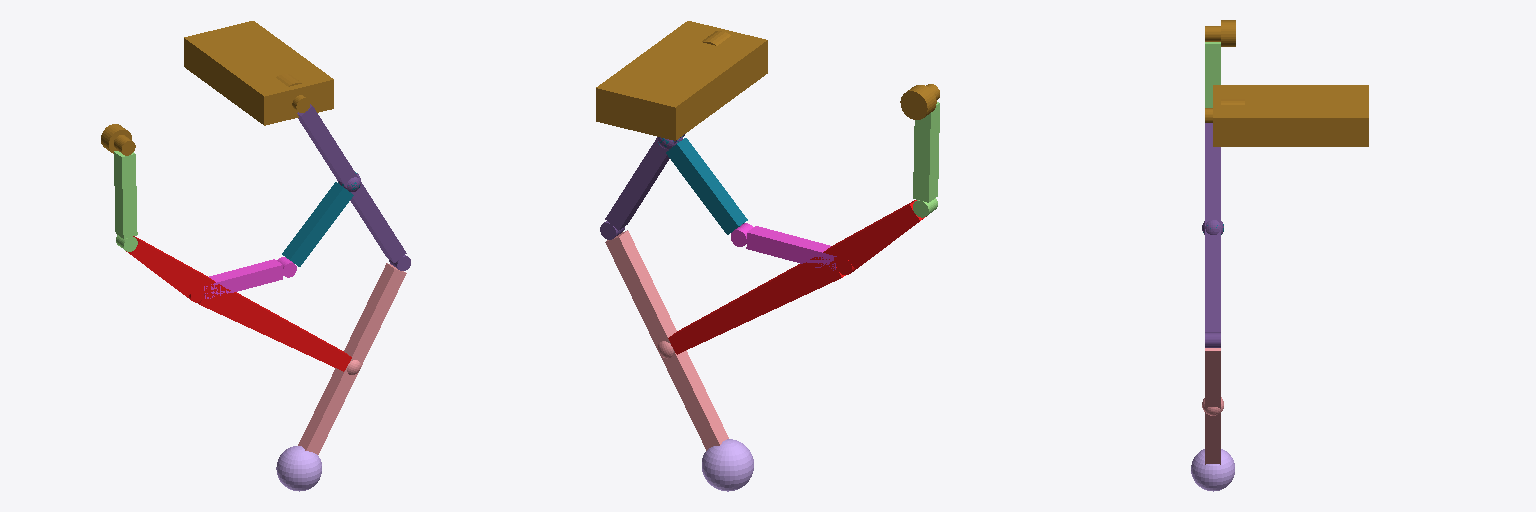
The robot description file, URDF, robot "Robot":
<?xml version="1.0"?>
<robot  name="Robot" >
 <link  name="L7" >
  <visual >
   <origin  rpy="0.0 0.0 0.0"  xyz="-6.938893903907228e-18 0.0 0.14433756729740643" />
   <geometry >
    <box  size="0.03999999910593033 0.03999999910593033 0.24867513548888254" />
   </geometry>
   <material  name="L7_Material" >
    <color  rgba="0.5070663128232016 0.3837017563454428 0.6212972244610807 1.0" />
   </material>
  </visual>
  <collision  name="L7_0_Collision" >
   <origin  rpy="0.0 0.0 0.0"  xyz="-6.938893903907228e-18 0.0 0.14433756729740643" />
   <geometry >
    <box  size="0.03999999910593033 0.03999999910593033 0.24867513548888254" />
   </geometry>
  </collision>
  <visual >
   <origin  rpy="0.0 0.0 0.0"  xyz="-2.0816681711721685e-17 0.0 0.4330127018922193" />
   <geometry >
    <box  size="0.03999999910593033 0.03999999910593033 0.24867513548888254" />
   </geometry>
   <material  name="L7_Material" >
    <color  rgba="0.5070663128232016 0.3837017563454428 0.6212972244610807 1.0" />
   </material>
  </visual>
  <collision  name="L7_1_Collision" >
   <origin  rpy="0.0 0.0 0.0"  xyz="-2.0816681711721685e-17 0.0 0.4330127018922193" />
   <geometry >
    <box  size="0.03999999910593033 0.03999999910593033 0.24867513548888254" />
   </geometry>
  </collision>
  <visual >
   <origin  rpy="0.0 0.0 0.0"  xyz="-1.3877787807814457e-17 0.0 0.28867513459481287" />
   <geometry >
    <box  size="0.03999999910593033 0.03999999910593033 0.5373502700836954" />
   </geometry>
   <material  name="L7_Material" >
    <color  rgba="0.5070663128232016 0.3837017563454428 0.6212972244610807 1.0" />
   </material>
  </visual>
  <collision  name="L7_2_Collision" >
   <origin  rpy="0.0 0.0 0.0"  xyz="-1.3877787807814457e-17 0.0 0.28867513459481287" />
   <geometry >
    <box  size="0.03999999910593033 0.03999999910593033 0.5373502700836954" />
   </geometry>
  </collision>
  <inertial >
   <origin  rpy="0.0 0.0 0.0"  xyz="-0.0 0.0 0.28868" />
   <mass  value="0.8907689643113298" />
   <inertia  izz="0.024951427653936358"  ixx="0.2771860503548242"  ixz="0.07992171105215214"  iyz="0.0"  iyy="0.3018999396288964"  ixy="1.089042360755529e-19" />
  </inertial>
 </link>
 <link  name="G" >
  <visual >
   <origin  rpy="0.0 0.0 0.0"  xyz="0.0 0.2 0.0" />
   <geometry >
    <box  size="0.2 0.4 0.08" />
   </geometry>
   <material  name="G_Material" >
    <color  rgba="0.6940779713638543 0.5091607061714823 0.18845358114361532 1.0" />
   </material>
  </visual>
  <collision  name="G_Collision" >
   <origin  rpy="0.0 0.0 0.0"  xyz="0.0 0.2 0.0" />
   <geometry >
    <box  size="0.2 0.4 0.08" />
   </geometry>
  </collision>
  <inertial >
   <origin  rpy="0.0 0.0 0.0"  xyz="0.0 0.2 0.0" />
   <mass  value="6.171428571428573" />
   <inertia  izz="0.10285714285714288"  ixx="0.08557714285714288"  ixz="0.0"  iyz="0.0"  iyy="0.08557714285714288"  ixy="0.0" />
  </inertial>
 </link>
 <link  name="L8" >
  <visual >
   <origin  rpy="0.0 0.0 0.0"  xyz="5.551115123125783e-17 0.0 0.4330127018922193" />
   <geometry >
    <box  size="0.03999999910593033 0.03999999910593033 0.24867513548888254" />
   </geometry>
   <material  name="L8_Material" >
    <color  rgba="0.958247288891179 0.6402156950870871 0.6659140439682679 1.0" />
   </material>
  </visual>
  <collision  name="L8_0_Collision" >
   <origin  rpy="0.0 0.0 0.0"  xyz="5.551115123125783e-17 0.0 0.4330127018922193" />
   <geometry >
    <box  size="0.03999999910593033 0.03999999910593033 0.24867513548888254" />
   </geometry>
  </collision>
  <visual >
   <origin  rpy="0.0 0.0 0.0"  xyz="2.7755575615628914e-17 0.0 0.14433756729740643" />
   <geometry >
    <box  size="0.03999999910593033 0.03999999910593033 0.24867513548888254" />
   </geometry>
   <material  name="L8_Material" >
    <color  rgba="0.958247288891179 0.6402156950870871 0.6659140439682679 1.0" />
   </material>
  </visual>
  <collision  name="L8_1_Collision" >
   <origin  rpy="0.0 0.0 0.0"  xyz="2.7755575615628914e-17 0.0 0.14433756729740643" />
   <geometry >
    <box  size="0.03999999910593033 0.03999999910593033 0.24867513548888254" />
   </geometry>
  </collision>
  <visual >
   <origin  rpy="0.0 0.0 0.0"  xyz="2.7755575615628914e-17 0.0 0.28867513459481287" />
   <geometry >
    <box  size="0.03999999910593033 0.03999999910593033 0.5373502700836954" />
   </geometry>
   <material  name="L8_Material" >
    <color  rgba="0.958247288891179 0.6402156950870871 0.6659140439682679 1.0" />
   </material>
  </visual>
  <collision  name="L8_2_Collision" >
   <origin  rpy="0.0 0.0 0.0"  xyz="2.7755575615628914e-17 0.0 0.28867513459481287" />
   <geometry >
    <box  size="0.03999999910593033 0.03999999910593033 0.5373502700836954" />
   </geometry>
  </collision>
  <inertial >
   <origin  rpy="0.0 0.0 0.0"  xyz="0.0 0.0 0.28868" />
   <mass  value="0.8907688606121752" />
   <inertia  izz="0.02495142616873406"  ixx="0.9797175841148964"  ixz="0.12288169875706646"  iyz="2.964046593268323e-19"  iyy="1.0044314719314194"  ixy="-1.089042360755529e-19" />
  </inertial>
 </link>
 <link  name="EE" >
  <visual >
   <origin  rpy="0.0 0.0 0.0"  xyz="0.0 0.0 0.0" />
   <geometry >
    <sphere  radius="0.05714285714285715" />
   </geometry>
   <material  name="EE_Material" >
    <color  rgba="0.825248863480645 0.7147548401941719 0.9747878816104143 1.0" />
   </material>
  </visual>
  <collision  name="EE_Collision" >
   <origin  rpy="0.0 0.0 0.0"  xyz="0.0 0.0 0.0" />
   <geometry >
    <sphere  radius="0.05714285714285715" />
   </geometry>
  </collision>
  <inertial >
   <origin  rpy="0.0 0.0 0.0"  xyz="0.0 0.0 0.0" />
   <mass  value="0.7536682084413666" />
   <inertia  izz="0.0009843829661274994"  ixx="0.0009843829661274994"  ixz="0.0"  iyz="0.0"  iyy="0.0009843829661274994"  ixy="0.0" />
  </inertial>
 </link>
 <link  name="L3" >
  <visual >
   <origin  rpy="0.0 0.0 0.0"  xyz="0.0 0.0 0.13224" />
   <geometry >
    <box  size="0.04 0.04 0.2244868310703372" />
   </geometry>
   <material  name="L3_Material" >
    <color  rgba="0.6357349064317402 0.8936451660926189 0.5497626428926408 1.0" />
   </material>
  </visual>
  <collision  name="L3_Collision" >
   <origin  rpy="0.0 0.0 0.0"  xyz="0.0 0.0 0.13224" />
   <geometry >
    <box  size="0.04 0.04 0.2244868310703372" />
   </geometry>
  </collision>
  <inertial >
   <origin  rpy="0.0 0.0 0.0"  xyz="0.0 0.0 0.13224" />
   <mass  value="0.34635111079423453" />
   <inertia  izz="9.236029621179587e-05"  ixx="0.0015006913739315216"  ixz="0.0"  iyz="0.0"  iyy="0.0015006913739315216"  ixy="0.0" />
  </inertial>
 </link>
 <link  name="L4" >
  <visual >
   <origin  rpy="3.141592653589793 0.16754144622366485 3.141592653589793"  xyz="-0.04503000288298151 0.0 0.5307366489238436" />
   <geometry >
    <box  size="0.03999999910593033 0.03999999910593033 0.5000617257613913" />
   </geometry>
   <material  name="L4_Material" >
    <color  rgba="0.9589272230154348 0.1300026598947781 0.13751742790273824 1.0" />
   </material>
  </visual>
  <collision  name="L4_0_Collision" >
   <origin  rpy="3.141592653589793 0.16754144622366485 3.141592653589793"  xyz="-0.04503000288298151 0.0 0.5307366489238436" />
   <geometry >
    <box  size="0.03999999910593033 0.03999999910593033 0.5000617257613913" />
   </geometry>
  </collision>
  <visual >
   <origin  rpy="3.141592653589793 0.11252334876541847 3.141592653589793"  xyz="-0.04503000288298151 0.0 0.398493233388675" />
   <geometry >
    <box  size="0.03999999910593033 0.03999999910593033 0.7620587474113115" />
   </geometry>
   <material  name="L4_Material" >
    <color  rgba="0.9589272230154348 0.1300026598947781 0.13751742790273824 1.0" />
   </material>
  </visual>
  <collision  name="L4_1_Collision" >
   <origin  rpy="3.141592653589793 0.11252334876541847 3.141592653589793"  xyz="-0.04503000288298151 0.0 0.398493233388675" />
   <geometry >
    <box  size="0.03999999910593033 0.03999999910593033 0.7620587474113115" />
   </geometry>
  </collision>
  <visual >
   <origin  rpy="0.0 0.0 0.0"  xyz="0.0 0.0 0.1322434155351686" />
   <geometry >
    <box  size="0.03999999910593033 0.03999999910593033 0.22448683196440689" />
   </geometry>
   <material  name="L4_Material" >
    <color  rgba="0.9589272230154348 0.1300026598947781 0.13751742790273824 1.0" />
   </material>
  </visual>
  <collision  name="L4_2_Collision" >
   <origin  rpy="0.0 0.0 0.0"  xyz="0.0 0.0 0.1322434155351686" />
   <geometry >
    <box  size="0.03999999910593033 0.03999999910593033 0.22448683196440689" />
   </geometry>
  </collision>
  <inertial >
   <origin  rpy="0.0 0.0 0.0"  xyz="-0.03002 0.0 0.35382" />
   <mass  value="1.6987621821860732" />
   <inertia  izz="0.09509170038349501"  ixx="1.2853072288218577"  ixz="-0.19513384453654836"  iyz="3.5601883815459e-19"  iyy="1.3799459259770206"  ixy="-1.634652583494046e-20" />
  </inertial>
 </link>
 <link  name="L5" >
  <visual >
   <origin  rpy="0.0 0.0 0.0"  xyz="0.0 0.0 0.13224" />
   <geometry >
    <box  size="0.04 0.04 0.2244868310703372" />
   </geometry>
   <material  name="L5_Material" >
    <color  rgba="0.9567309395021736 0.3558220698086245 0.8680803098476333 1.0" />
   </material>
  </visual>
  <collision  name="L5_Collision" >
   <origin  rpy="0.0 0.0 0.0"  xyz="0.0 0.0 0.13224" />
   <geometry >
    <box  size="0.04 0.04 0.2244868310703372" />
   </geometry>
  </collision>
  <inertial >
   <origin  rpy="0.0 0.0 0.0"  xyz="0.0 0.0 0.13224" />
   <mass  value="0.34635111079423453" />
   <inertia  izz="9.236029621179587e-05"  ixx="0.0015006913739315216"  ixz="0.0"  iyz="0.0"  iyy="0.0015006913739315216"  ixy="0.0" />
  </inertial>
 </link>
 <link  name="L6" >
  <visual >
   <origin  rpy="0.0 0.0 0.0"  xyz="-0.0 0.0 0.13224" />
   <geometry >
    <box  size="0.04 0.04 0.22448683107033726" />
   </geometry>
   <material  name="L6_Material" >
    <color  rgba="0.12677179806288352 0.5125235335011983 0.6065403482440004 1.0" />
   </material>
  </visual>
  <collision  name="L6_Collision" >
   <origin  rpy="0.0 0.0 0.0"  xyz="-0.0 0.0 0.13224" />
   <geometry >
    <box  size="0.04 0.04 0.22448683107033726" />
   </geometry>
  </collision>
  <inertial >
   <origin  rpy="0.0 0.0 0.0"  xyz="-0.0 0.0 0.13224" />
   <mass  value="0.34635111079423464" />
   <inertia  izz="9.23602962117959e-05"  ixx="0.0015006913739315229"  ixz="0.0"  iyz="0.0"  iyy="0.0015006913739315229"  ixy="0.0" />
  </inertial>
 </link>
 <joint  name="Main_ground"  type="revolute" >
  <parent  link="G" />
  <child  link="L7" />
  <origin  rpy="3.141592653589793 0.5235987755982991 3.141592653589793"  xyz="0.0 0.0 0.0" />
  <axis  xyz="0 1 0" />
  <limit  lower="-3.141592653589793"  upper="3.141592653589793"  velocity="18.692476288859268"  effort="28.799999999999997" />
  <dynamics  friction="0"  damping="0.05" />
 </joint>
 <joint  name="Main_ground_G_WeldActuator"  type="fixed" >
  <parent  link="G" />
  <child  link="Main_ground_GActuator" />
  <origin  rpy="-1.5707963267948966 0.5235987755982987 -3.141592653589793"  xyz="0.0 0.050999999552965164 0.0" />
 </joint>
 <link  name="Main_ground_GActuator" >
  <visual >
   <geometry >
    <cylinder  length="0.062"  radius="0.045" />
   </geometry>
   <material  name="Main_ground_GActuator_Material" >
    <color  rgba="0.6940779713638543 0.5091607061714823 0.18845358114361532 0.9" />
   </material>
  </visual>
  <inertial >
   <inertia  izz="0.021599999999999998"  ixx="0.015759999999999996"  ixz="0.0"  iyz="0.0"  iyy="0.015759999999999996"  ixy="0.0" />
   <mass  value="0.96" />
  </inertial>
 </link>
 <link  name="Main_ground_GUnit" >
  <visual >
   <geometry >
    <cylinder  length="0.03999999910593033"  radius="0.019999999552965164" />
   </geometry>
   <material  name="Main_ground_GUnit_Material" >
    <color  rgba="0.6940779713638543 0.5091607061714823 0.18845358114361532 0.9" />
   </material>
  </visual>
  <inertial >
   <inertia  izz="0.0009999999776482583"  ixx="0.0008333333147068819"  ixz="0.0"  iyz="0.0"  iyy="0.0008333333147068819"  ixy="0.0" />
   <mass  value="0.1" />
  </inertial>
 </link>
 <joint  name="Main_ground_G_WeldUnit"  type="fixed" >
  <parent  link="G" />
  <child  link="Main_ground_GUnit" />
  <origin  rpy="-1.5707963267948966 0.5235987755982987 -3.141592653589793"  xyz="0.0 0.0 0.0" />
 </joint>
 <joint  name="Main_knee"  type="revolute" >
  <parent  link="L7" />
  <child  link="L8" />
  <origin  rpy="0.0 1.0471975511965974 0.0"  xyz="-2.7755575615628914e-17 0.0 0.5773502691896257" />
  <axis  xyz="0 1 0" />
  <limit  lower="-3.141592653589793"  upper="3.141592653589793"  velocity="6.283185307179586"  effort="600.0" />
  <dynamics  friction="0"  damping="0.05" />
 </joint>
 <link  name="Main_knee_L7Unit" >
  <visual >
   <geometry >
    <cylinder  length="0.03999999910593033"  radius="0.019999999552965164" />
   </geometry>
   <material  name="Main_knee_L7Unit_Material" >
    <color  rgba="0.5070663128232016 0.3837017563454428 0.6212972244610807 0.9" />
   </material>
  </visual>
  <inertial >
   <inertia  izz="0.0009999999776482583"  ixx="0.0008333333147068819"  ixz="0.0"  iyz="0.0"  iyy="0.0008333333147068819"  ixy="0.0" />
   <mass  value="0.1" />
  </inertial>
 </link>
 <joint  name="Main_knee_L7_WeldUnit"  type="fixed" >
  <parent  link="L7" />
  <child  link="Main_knee_L7Unit" />
  <origin  rpy="1.5707963267948966 1.0471975511965979 0.0"  xyz="-2.7755575615628914e-17 0.0 0.5773502691896257" />
 </joint>
 <joint  name="Main_ee"  type="fixed" >
  <parent  link="L8" />
  <child  link="EE" />
  <origin  rpy="3.141592653589793 0.5235987755982991 3.141592653589793"  xyz="5.551115123125783e-17 0.0 0.5773502691896257" />
 </joint>
 <link  name="Main_ee_L8Unit" >
  <visual >
   <geometry >
    <cylinder  length="0.03999999910593033"  radius="0.019999999552965164" />
   </geometry>
   <material  name="Main_ee_L8Unit_Material" >
    <color  rgba="0.958247288891179 0.6402156950870871 0.6659140439682679 0.9" />
   </material>
  </visual>
  <inertial >
   <inertia  izz="0.0009999999776482583"  ixx="0.0008333333147068819"  ixz="0.0"  iyz="0.0"  iyy="0.0008333333147068819"  ixy="0.0" />
   <mass  value="0.1" />
  </inertial>
 </link>
 <joint  name="Main_ee_L8_WeldUnit"  type="fixed" >
  <parent  link="L8" />
  <child  link="Main_ee_L8Unit" />
  <origin  rpy="-1.5707963267948966 0.5235987755982987 -3.141592653589793"  xyz="5.551115123125783e-17 0.0 0.5773502691896257" />
 </joint>
 <joint  name="2L_ground"  type="revolute" >
  <parent  link="G" />
  <child  link="L3" />
  <origin  rpy="3.141592653589793 0.022584157122803372 3.141592653589793"  xyz="-0.5 0.0 0.0" />
  <axis  xyz="0 1 0" />
  <limit  lower="-3.141592653589793"  upper="3.141592653589793"  velocity="17.907078125461823"  effort="5.3999999999999995" />
  <dynamics  friction="0"  damping="0.05" />
 </joint>
 <joint  name="2L_ground_G_WeldActuator"  type="fixed" >
  <parent  link="G" />
  <child  link="2L_ground_GActuator" />
  <origin  rpy="-1.5707963267948966 0.022584157122803594 -3.141592653589793"  xyz="-0.5 0.03975 0.0" />
 </joint>
 <link  name="2L_ground_GActuator" >
  <visual >
   <geometry >
    <cylinder  length="0.0395"  radius="0.034" />
   </geometry>
   <material  name="2L_ground_GActuator_Material" >
    <color  rgba="0.6940779713638543 0.5091607061714823 0.18845358114361532 0.9" />
   </material>
  </visual>
  <inertial >
   <inertia  izz="0.006256"  ixx="0.004339333333333334"  ixz="0.0"  iyz="0.0"  iyy="0.004339333333333334"  ixy="0.0" />
   <mass  value="0.368" />
  </inertial>
 </link>
 <link  name="2L_ground_GUnit" >
  <visual >
   <geometry >
    <cylinder  length="0.04"  radius="0.02" />
   </geometry>
   <material  name="2L_ground_GUnit_Material" >
    <color  rgba="0.6940779713638543 0.5091607061714823 0.18845358114361532 0.9" />
   </material>
  </visual>
  <inertial >
   <inertia  izz="0.001"  ixx="0.0008333333333333333"  ixz="0.0"  iyz="0.0"  iyy="0.0008333333333333333"  ixy="0.0" />
   <mass  value="0.1" />
  </inertial>
 </link>
 <joint  name="2L_ground_G_WeldUnit"  type="fixed" >
  <parent  link="G" />
  <child  link="2L_ground_GUnit" />
  <origin  rpy="-1.5707963267948966 0.022584157122803594 -3.141592653589793"  xyz="-0.5 0.0 0.0" />
 </joint>
 <joint  name="4LT2_j0"  type="revolute" >
  <parent  link="L3" />
  <child  link="L4" />
  <origin  rpy="0.0 -0.7853981633974468 0.0"  xyz="3.885780586188048e-16 0.0 0.2644868310703371" />
  <axis  xyz="0 1 0" />
  <limit  lower="-3.141592653589793"  upper="3.141592653589793"  velocity="6.283185307179586"  effort="600.0" />
  <dynamics  friction="0"  damping="0.05" />
 </joint>
 <link  name="4LT2_j0_L3Unit" >
  <visual >
   <geometry >
    <cylinder  length="0.04"  radius="0.02" />
   </geometry>
   <material  name="4LT2_j0_L3Unit_Material" >
    <color  rgba="0.6357349064317402 0.8936451660926189 0.5497626428926408 0.9" />
   </material>
  </visual>
  <inertial >
   <inertia  izz="0.001"  ixx="0.0008333333333333333"  ixz="0.0"  iyz="0.0"  iyy="0.0008333333333333333"  ixy="0.0" />
   <mass  value="0.1" />
  </inertial>
 </link>
 <joint  name="4LT2_j0_L3_WeldUnit"  type="fixed" >
  <parent  link="L3" />
  <child  link="4LT2_j0_L3Unit" />
  <origin  rpy="1.5707963267948966 -0.7853981633974467 0.0"  xyz="3.885780586188048e-16 0.0 0.2644868310703371" />
 </joint>
 <joint  name="4LT2_j1"  type="revolute" >
  <parent  link="L4" />
  <child  link="L5" />
  <origin  rpy="0.0 -0.785398163397448 0.0"  xyz="0.0 0.0 0.2644868310703372" />
  <axis  xyz="0 1 0" />
  <limit  lower="-3.141592653589793"  upper="3.141592653589793"  velocity="6.283185307179586"  effort="600.0" />
  <dynamics  friction="0"  damping="0.05" />
 </joint>
 <link  name="4LT2_j1_L4Unit" >
  <visual >
   <geometry >
    <cylinder  length="0.03999999910593033"  radius="0.019999999552965164" />
   </geometry>
   <material  name="4LT2_j1_L4Unit_Material" >
    <color  rgba="0.9589272230154348 0.1300026598947781 0.13751742790273824 0.9" />
   </material>
  </visual>
  <inertial >
   <inertia  izz="0.0009999999776482583"  ixx="0.0008333333147068819"  ixz="0.0"  iyz="0.0"  iyy="0.0008333333147068819"  ixy="0.0" />
   <mass  value="0.1" />
  </inertial>
 </link>
 <joint  name="4LT2_j1_L4_WeldUnit"  type="fixed" >
  <parent  link="L4" />
  <child  link="4LT2_j1_L4Unit" />
  <origin  rpy="1.5707963267948961 -0.7853981633974481 1.1102230246251565e-16"  xyz="0.0 0.0 0.2644868310703372" />
 </joint>
 <joint  name="4LT2_j2"  type="revolute" >
  <parent  link="L5" />
  <child  link="L6" />
  <origin  rpy="0.0 -0.7853981633974483 0.0"  xyz="5.551115123125783e-17 0.0 0.2644868310703372" />
  <axis  xyz="0 1 0" />
  <limit  lower="-3.141592653589793"  upper="3.141592653589793"  velocity="6.283185307179586"  effort="600.0" />
  <dynamics  friction="0"  damping="0.05" />
 </joint>
 <link  name="4LT2_j2_L5Unit" >
  <visual >
   <geometry >
    <cylinder  length="0.04"  radius="0.02" />
   </geometry>
   <material  name="4LT2_j2_L5Unit_Material" >
    <color  rgba="0.9567309395021736 0.3558220698086245 0.8680803098476333 0.9" />
   </material>
  </visual>
  <inertial >
   <inertia  izz="0.001"  ixx="0.0008333333333333333"  ixz="0.0"  iyz="0.0"  iyy="0.0008333333333333333"  ixy="0.0" />
   <mass  value="0.1" />
  </inertial>
 </link>
 <joint  name="4LT2_j2_L5_WeldUnit"  type="fixed" >
  <parent  link="L5" />
  <child  link="4LT2_j2_L5Unit" />
  <origin  rpy="1.5707963267948966 -0.7853981633974484 1.1102230246251565e-16"  xyz="5.551115123125783e-17 0.0 0.2644868310703372" />
 </joint>
 <link  name="4L_top_L7Pseudo" >
  <visual >
   <geometry >
    <sphere  radius="0.02857142793280738" />
   </geometry>
   <material  name="4L_top_L7Pseudo_Material" >
    <color  rgba="0.5070663128232016 0.3837017563454428 0.6212972244610807 0.5" />
   </material>
  </visual>
  <inertial >
   <mass  value="0.05" />
   <inertia  izz="1.632652988239212e-05"  ixx="1.632652988239212e-05"  ixz="0.0"  iyz="0.0"  iyy="1.632652988239212e-05"  ixy="0.0" />
  </inertial>
 </link>
 <joint  name="4L_top_L7_revolute"  type="revolute" >
  <parent  link="L7" />
  <child  link="4L_top_L7Pseudo" />
  <origin  rpy="0.0 0.0 0.0"  xyz="-1.3877787807814457e-17 0.0 0.28867513459481287" />
  <axis  xyz="0 1 0" />
  <limit  lower="-3.141592653589793"  upper="3.141592653589793"  velocity="6.283185307179586"  effort="600.0" />
  <dynamics  friction="0"  damping="0.05" />
 </joint>
 <joint  name="4L_top_L7_Weld"  type="fixed" >
  <parent  link="L6" />
  <child  link="4L_top_L6Pseudo" />
  <origin  rpy="3.141592653589793 1.286412781872945 3.141592653589793"  xyz="-5.551115123125783e-17 0.0 0.2644868310703372" />
 </joint>
 <link  name="4L_top_L6Pseudo" >
  <visual >
   <geometry >
    <sphere  radius="0.028571428571428574" />
   </geometry>
   <material  name="4L_top_L6Pseudo_Material" >
    <color  rgba="0.12677179806288352 0.5125235335011983 0.6065403482440004 0.5" />
   </material>
  </visual>
  <inertial >
   <mass  value="0.05" />
   <inertia  izz="1.6326530612244903e-05"  ixx="1.6326530612244903e-05"  ixz="0.0"  iyz="0.0"  iyy="1.6326530612244903e-05"  ixy="0.0" />
  </inertial>
 </link>
 <link  name="4L_bot_L8Pseudo" >
  <visual >
   <geometry >
    <sphere  radius="0.02857142793280738" />
   </geometry>
   <material  name="4L_bot_L8Pseudo_Material" >
    <color  rgba="0.958247288891179 0.6402156950870871 0.6659140439682679 0.5" />
   </material>
  </visual>
  <inertial >
   <mass  value="0.05" />
   <inertia  izz="1.632652988239212e-05"  ixx="1.632652988239212e-05"  ixz="0.0"  iyz="0.0"  iyy="1.632652988239212e-05"  ixy="0.0" />
  </inertial>
 </link>
 <joint  name="4L_bot_L8_revolute"  type="revolute" >
  <parent  link="L8" />
  <child  link="4L_bot_L8Pseudo" />
  <origin  rpy="0.0 0.0 0.0"  xyz="5.551115123125783e-17 0.0 0.28867513459481287" />
  <axis  xyz="0 1 0" />
  <limit  lower="-3.141592653589793"  upper="3.141592653589793"  velocity="6.283185307179586"  effort="600.0" />
  <dynamics  friction="0"  damping="0.05" />
 </joint>
 <joint  name="4L_bot_L8_Weld"  type="fixed" >
  <parent  link="L4" />
  <child  link="4L_bot_L4Pseudo" />
  <origin  rpy="0.0 1.3315810961185495 0.0"  xyz="-0.09006000576596307 0.0 0.79698646677735" />
 </joint>
 <link  name="4L_bot_L4Pseudo" >
  <visual >
   <geometry >
    <sphere  radius="0.02857142793280738" />
   </geometry>
   <material  name="4L_bot_L4Pseudo_Material" >
    <color  rgba="0.9589272230154348 0.1300026598947781 0.13751742790273824 0.5" />
   </material>
  </visual>
  <inertial >
   <mass  value="0.05" />
   <inertia  izz="1.632652988239212e-05"  ixx="1.632652988239212e-05"  ixz="0.0"  iyz="0.0"  iyy="1.632652988239212e-05"  ixy="0.0" />
  </inertial>
 </link>
</robot>

--- What the picture shows (computed from the rendered views, not written in the file) ---
Views: 3 orthographic renders of the robot side by side, from view 1: azimuth 30°, elevation 25°; view 2: azimuth 150°, elevation 25°; view 3: azimuth 270°, elevation 25°.
Robot: Robot — 21 links, 20 joints (8 revolute, 12 fixed); root link G; default pose: all joints at 0.
Links seen in each view (by area): view 1: G, L4, L8, L7, L6, L3, EE, L5; view 2: G, L4, L8, L6, L3, EE, L7, L5, 2L_ground_GActuator; view 3: G, L7, L8, EE, L3.
Boxes of the visible links, <box> form: G: <box>184,21,333,125</box>; L4: <box>126,236,351,371</box>; L8: <box>298,263,406,454</box>; L7: <box>297,104,406,262</box>; L6: <box>282,182,353,266</box>; L3: <box>114,151,137,238</box>; EE: <box>276,446,321,491</box>; L5: <box>204,259,282,298</box>; G: <box>596,21,767,140</box>; L4: <box>668,200,926,354</box>; L8: <box>605,230,728,450</box>; L6: <box>666,138,747,234</box>; L3: <box>913,102,939,202</box>; EE: <box>702,439,753,491</box>; L7: <box>605,134,684,230</box>; L5: <box>746,226,836,270</box>; 2L_ground_GActuator: <box>900,85,936,119</box>; G: <box>1213,85,1368,146</box>; L7: <box>1205,123,1220,331</box>; L8: <box>1205,348,1220,464</box>; EE: <box>1191,449,1234,491</box>; L3: <box>1205,42,1220,107</box>.
Bounding box of the posed robot: 0.8426 × 0.4571 × 1.1 m (x, y, z).
Geometry: primitives only (box / cylinder / sphere), no mesh files.